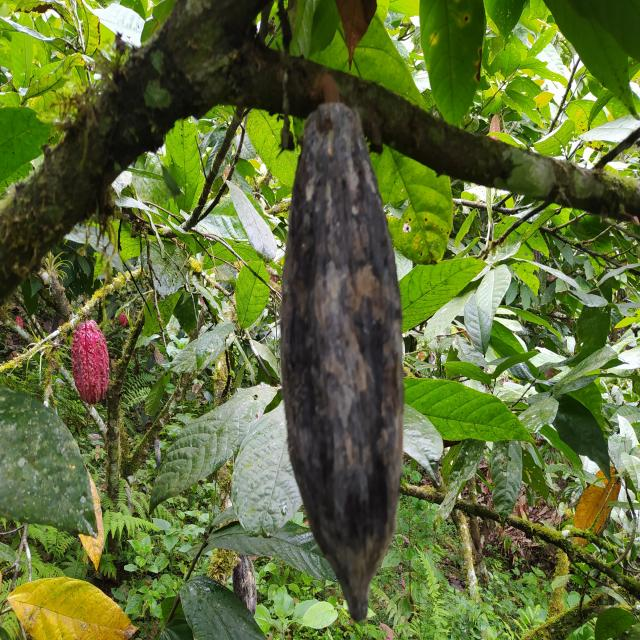Fitoftora: (277, 90, 411, 624)
Sana: (71, 316, 110, 404)
